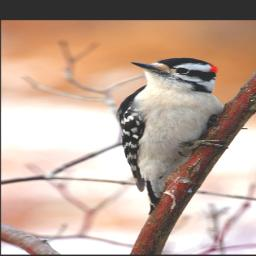Woodpecker: (118, 57, 231, 216)
